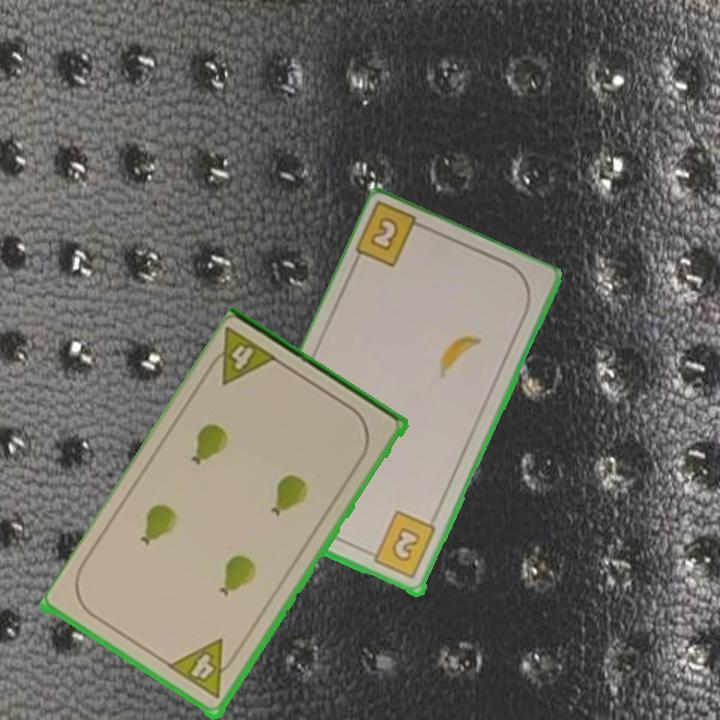2b: (363, 508, 440, 582), (353, 202, 434, 271)
4p: (201, 324, 283, 390), (166, 636, 242, 702)
